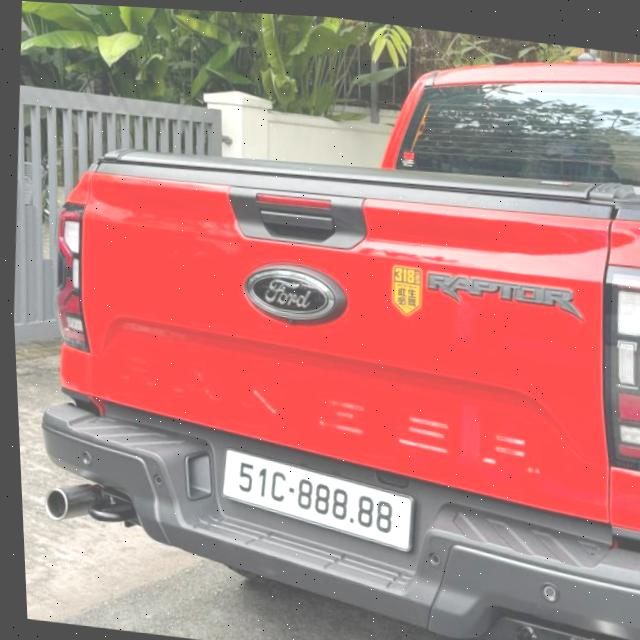car: (1, 0, 640, 640)
plate: (217, 450, 421, 549)
